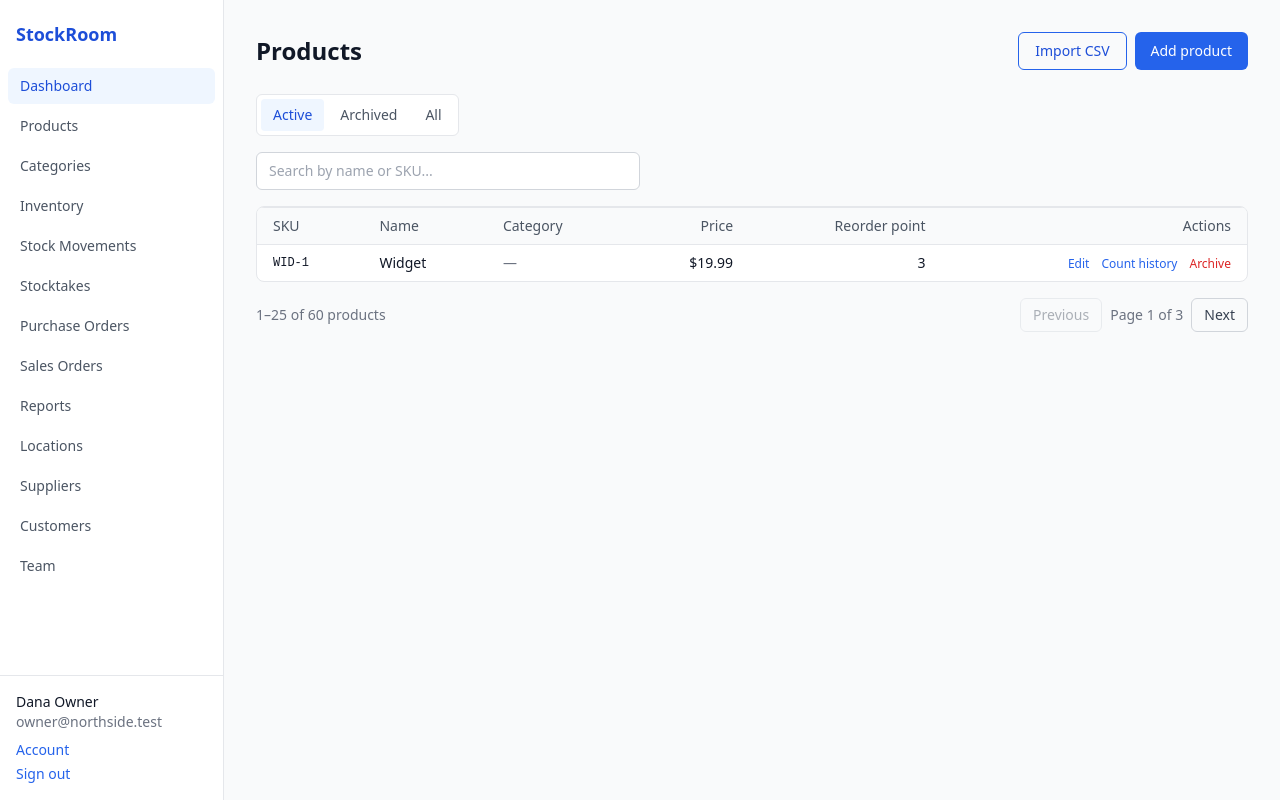
Test case: ProductsPage pagination › steps to the next page and asks the API for it
Check: the text "Widget" is shown, box [364,244,487,281]
Click the button "Next" at (1220,315), box [1191,298,1248,332]
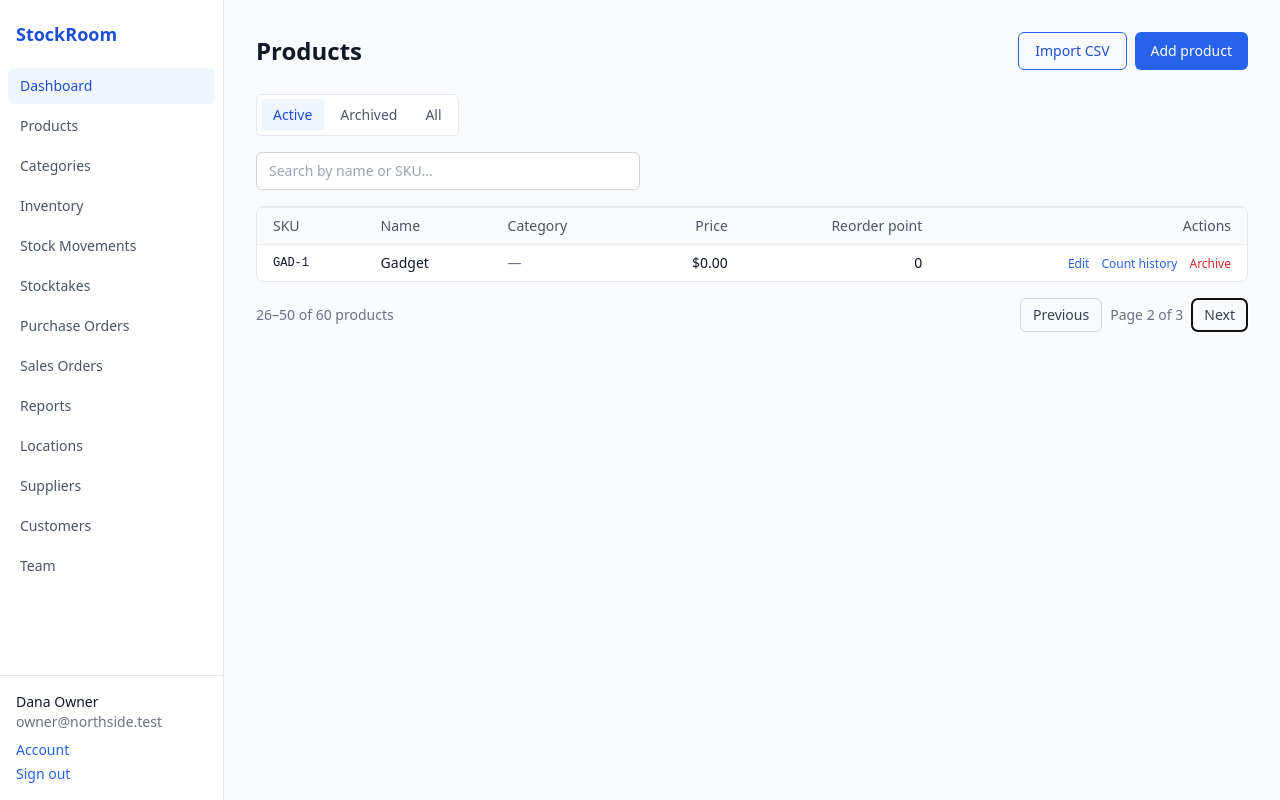
Check: the text "26–50 of 60 products" is shown, box [256,305,394,325]
